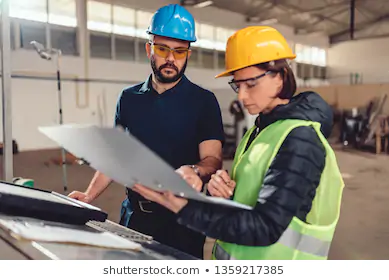Helmet: (214, 24, 299, 82), (145, 3, 199, 44)
